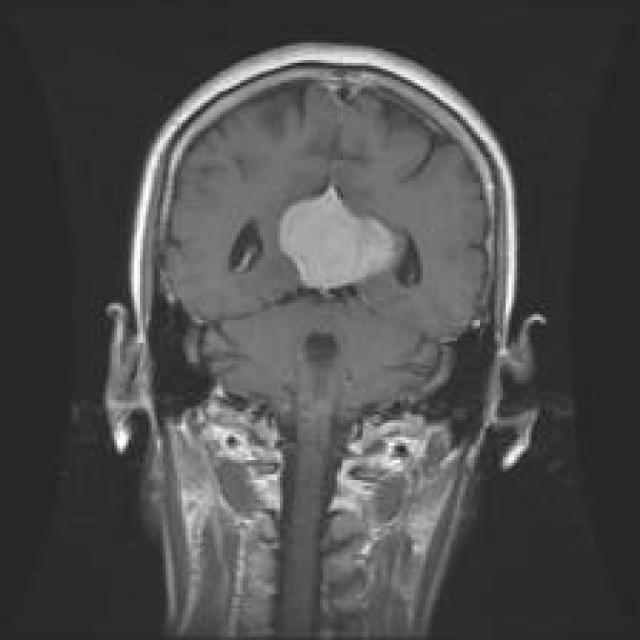meningioma_tumor: (271, 184, 417, 308)
